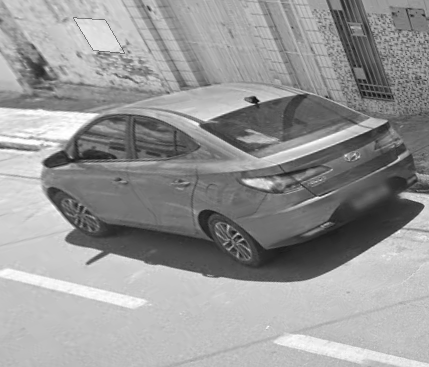car: (33, 76, 422, 280)
